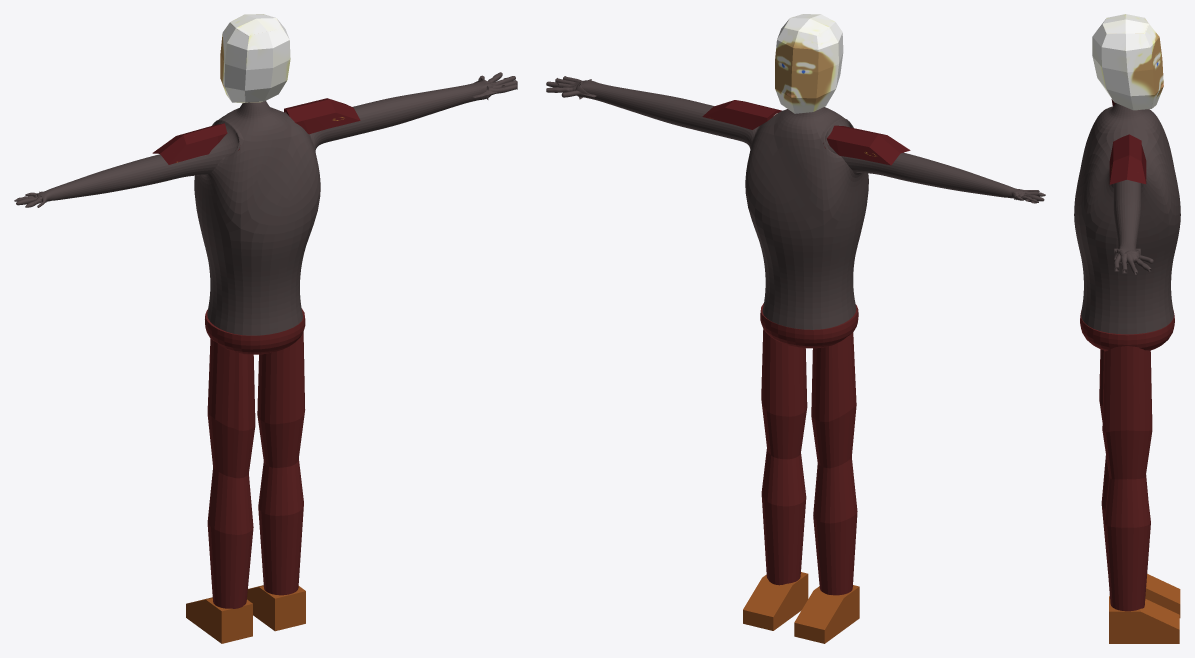
File: old-priest.fbx
The picture shows the model from 3 angles, left to right: view 1: azimuth 30°, elevation 25°; view 2: azimuth 150°, elevation 25°; view 3: azimuth 270°, elevation 25°; orthographic projection. The views are drawn at different scales.
Visible parts, largest first — view 1: Vert.002, Cylinder, Cylinder.001, Cube.002, Cube, Cube.001, Vert.006, Cube.004, Cube.005; view 2: Vert.002, Cylinder, Cylinder.001, Cube.002, Cube, Cube.001, Cube.005, Vert.006, Cube.004; view 3: Vert.002, Cylinder.001, Cube.002, Cube.001, Cube.004, Vert.006, Cube, Cylinder.
Boxes of the visible parts, bbox=[...] form: Vert.002: bbox=[14, 72, 517, 335]; Cylinder: bbox=[207, 339, 255, 608]; Cylinder.001: bbox=[257, 332, 305, 595]; Cube.002: bbox=[220, 14, 290, 103]; Cube: bbox=[186, 597, 252, 643]; Cube.001: bbox=[247, 585, 305, 631]; Vert.006: bbox=[205, 308, 305, 354]; Cube.004: bbox=[284, 98, 360, 134]; Cube.005: bbox=[152, 123, 227, 164]; Vert.002: bbox=[546, 76, 1045, 329]; Cylinder: bbox=[811, 332, 857, 595]; Cylinder.001: bbox=[761, 329, 807, 585]; Cube.002: bbox=[775, 14, 843, 113]; Cube: bbox=[794, 585, 859, 643]; Cube.001: bbox=[743, 572, 808, 630]; Cube.005: bbox=[827, 125, 910, 165]; Vert.006: bbox=[760, 303, 858, 348]; Cube.004: bbox=[702, 100, 781, 129]; Vert.002: bbox=[1074, 103, 1180, 334]; Cylinder.001: bbox=[1102, 346, 1152, 611]; Cube.002: bbox=[1092, 14, 1163, 110]; Cube.001: bbox=[1109, 596, 1179, 643]; Cube.004: bbox=[1109, 134, 1146, 184]; Vert.006: bbox=[1080, 310, 1174, 350]; Cube: bbox=[1109, 574, 1180, 617]; Cylinder: bbox=[1099, 349, 1148, 570].
Bounding box in the file's own units: 234 × 270 × 43.23.
Materials: 5 (2 with a texture image).
